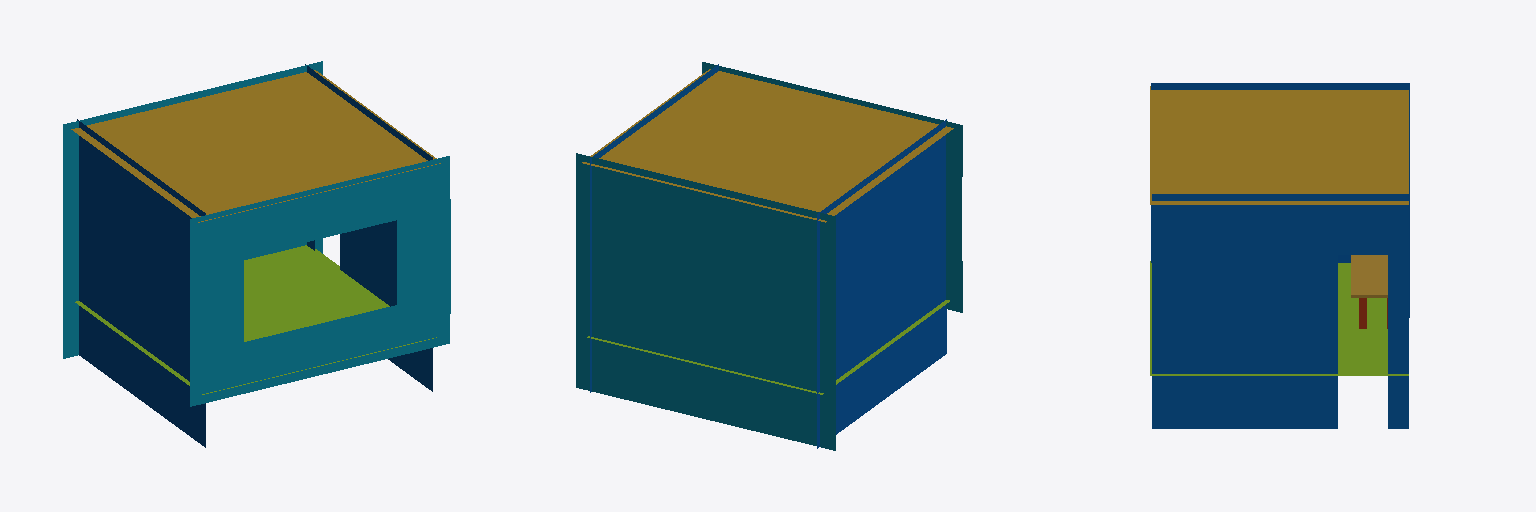
File: room1.obj
3 views of the same model, side by side, from view 1: azimuth 30°, elevation 25°; view 2: azimuth 150°, elevation 25°; view 3: azimuth 270°, elevation 25° (orthographic).
Visible parts, largest first — view 1: Plane.004_Plane.005, Plane.002_Plane.003, Plane.006_Plane.008, Plane.001_Plane.007, Plane_Plane.001, Plane.007_Plane.009, Plane.005_Plane.006, Plane.003_Plane.004, Plane.008_Plane.010; view 2: Plane.005_Plane.006, Plane.004_Plane.005, Plane.002_Plane.003, Plane.006_Plane.008, Plane.007_Plane.009, Plane_Plane.001, Plane.001_Plane.007, Plane.003_Plane.004; view 3: Plane.003_Plane.004, Plane.004_Plane.005, Plane_Plane.001, Plane.009_Plane.011, Plane.010_Plane.012, Plane.002_Plane.003, Cube.
Boxes of the visible parts, <box> form: Plane.004_Plane.005: <box>71,70,440,222</box>; Plane.002_Plane.003: <box>77,119,205,447</box>; Plane.006_Plane.008: <box>190,156,449,267</box>; Plane.001_Plane.007: <box>190,292,449,406</box>; Plane_Plane.001: <box>75,245,436,394</box>; Plane.007_Plane.009: <box>190,249,243,376</box>; Plane.005_Plane.006: <box>63,61,322,358</box>; Plane.003_Plane.004: <box>340,91,432,391</box>; Plane.008_Plane.010: <box>397,199,450,326</box>; Plane.005_Plane.006: <box>576,153,835,450</box>; Plane.004_Plane.005: <box>582,69,953,222</box>; Plane.002_Plane.003: <box>817,119,946,448</box>; Plane.006_Plane.008: <box>702,62,962,176</box>; Plane.007_Plane.009: <box>946,173,961,260</box>; Plane_Plane.001: <box>587,300,949,394</box>; Plane.001_Plane.007: <box>946,258,962,312</box>; Plane.003_Plane.004: <box>626,64,718,137</box>; Plane.003_Plane.004: <box>1152,194,1337,428</box>; Plane.004_Plane.005: <box>1150,86,1408,204</box>; Plane_Plane.001: <box>1150,261,1408,375</box>; Plane.009_Plane.011: <box>1388,194,1408,428</box>; Plane.010_Plane.012: <box>1333,194,1392,254</box>; Plane.002_Plane.003: <box>1151,83,1409,317</box>; Cube: <box>1351,255,1387,297</box>.
Size of the model in its own units: 13.96 by 12 by 12.03.